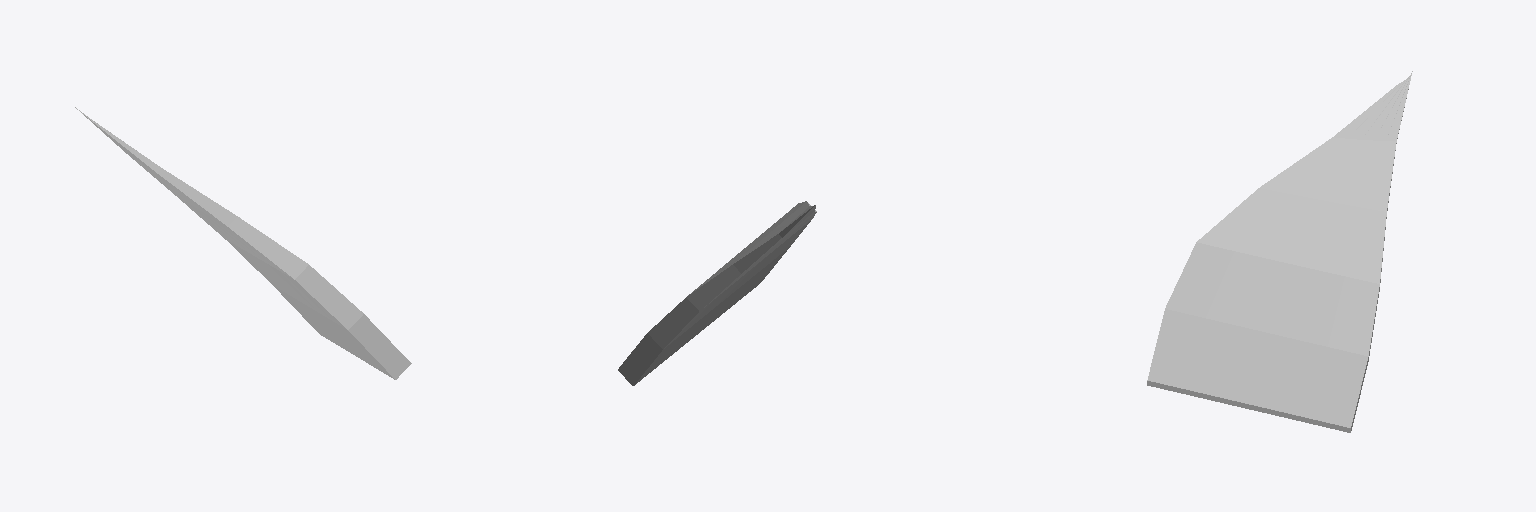
Rendered from rightwing.obj.
3 renders of one model, left to right at view 1: azimuth 30°, elevation 25°; view 2: azimuth 150°, elevation 25°; view 3: azimuth 270°, elevation 25°, orthographic.
Parts seen in each view (by area): view 1: bird.002; view 2: bird.002; view 3: bird.002.
Boxes of the visible parts, box(x1,y1,x2,y2) form: bird.002: box(75, 107, 411, 379); bird.002: box(618, 201, 816, 385); bird.002: box(1147, 71, 1412, 432).
Size of the model in its own units: 18.23 by 19.49 by 18.2.